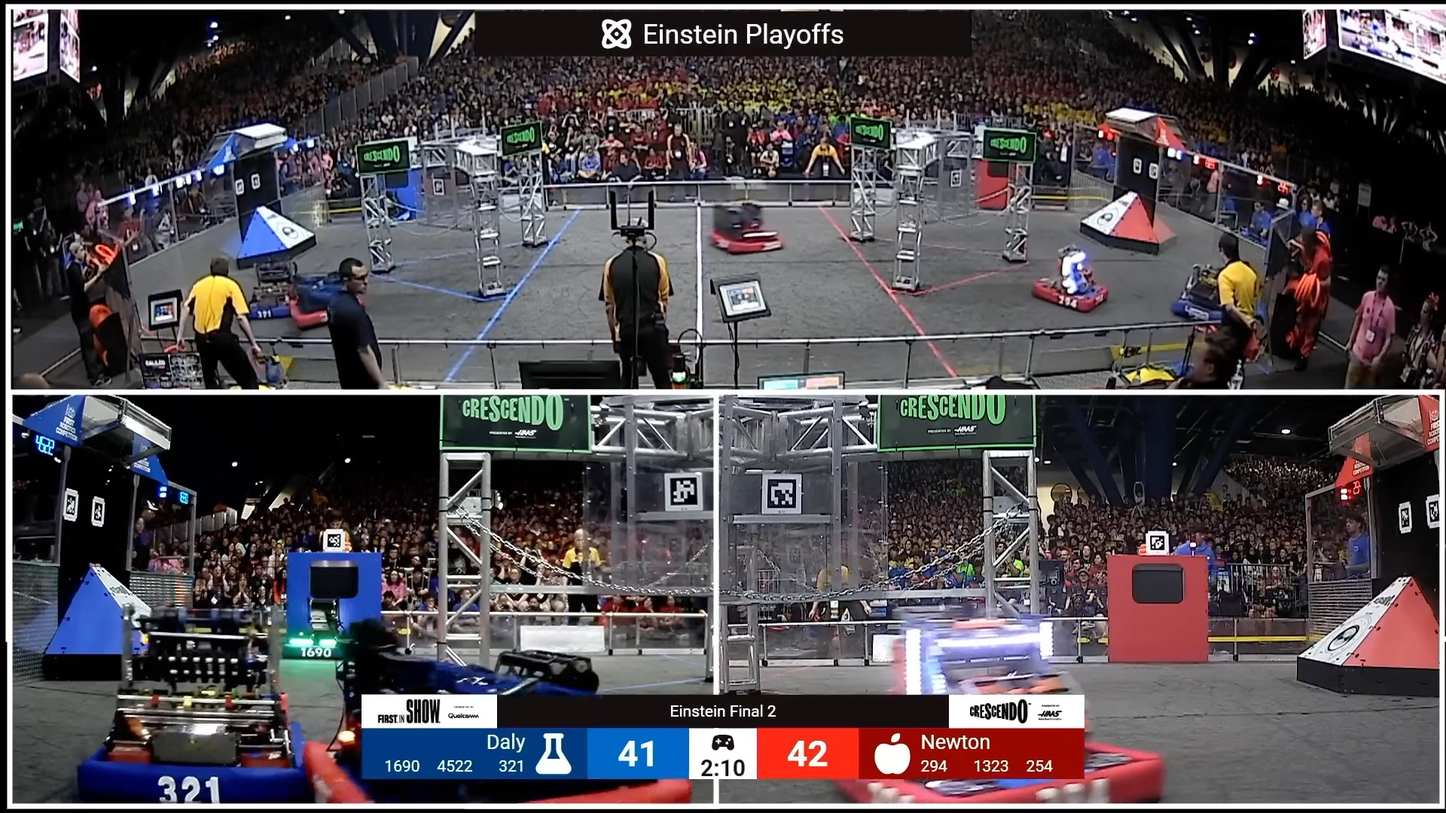bumpers: (313, 739, 698, 802), (831, 732, 1173, 800), (68, 743, 340, 805), (1169, 292, 1273, 328), (707, 218, 794, 259), (1026, 277, 1113, 317), (233, 293, 299, 325), (285, 296, 350, 326)
